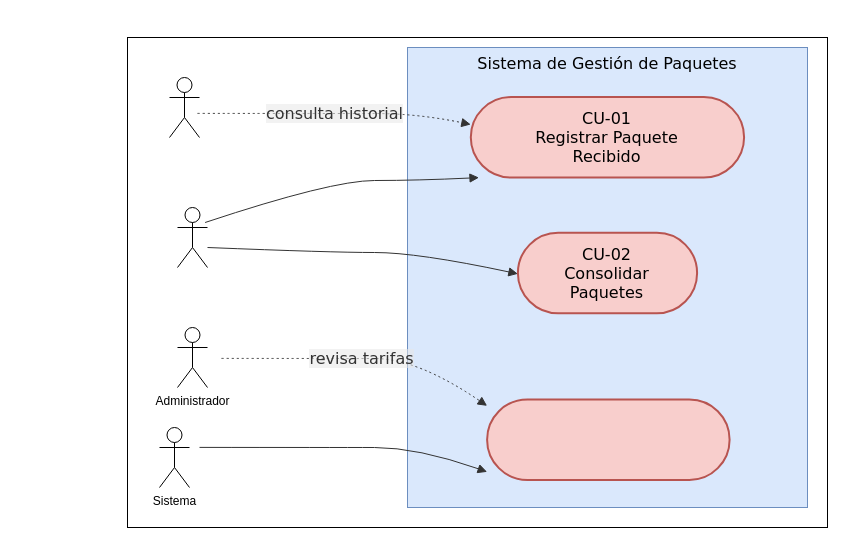
Image size: 854x554. Some labels were removed from this diagram. The box of each missing label's shape, as (x1, y1, x2, y2) in pixels:
Cliente: (168, 76, 200, 138)
CU-03 Calcular Costos e Impuestos: (486, 398, 730, 480)
Operador de Bodega: (176, 206, 208, 268)
